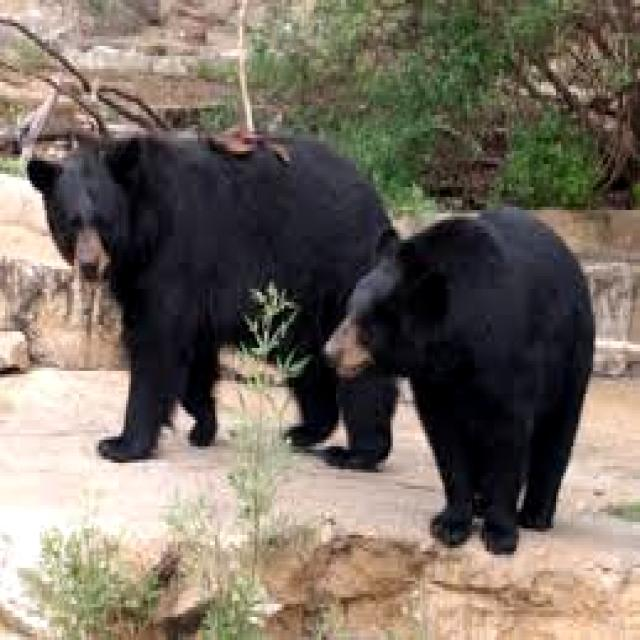bear: (32, 124, 352, 451), (324, 184, 590, 542)
